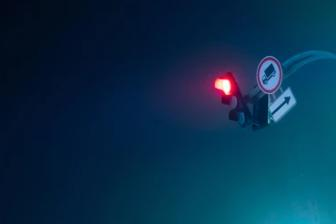red_light: (215, 71, 255, 129)
